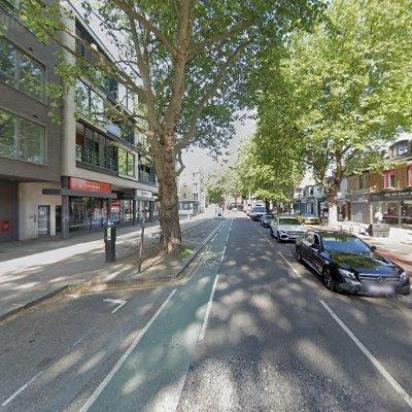moving-car: (293, 228, 411, 296), (270, 215, 310, 243), (258, 212, 276, 228), (245, 207, 252, 217)
moving-heavy-truck: (242, 198, 266, 214)
moving-light-truck: (250, 204, 266, 221)
stationary-car-onstreet: (296, 211, 320, 225)
